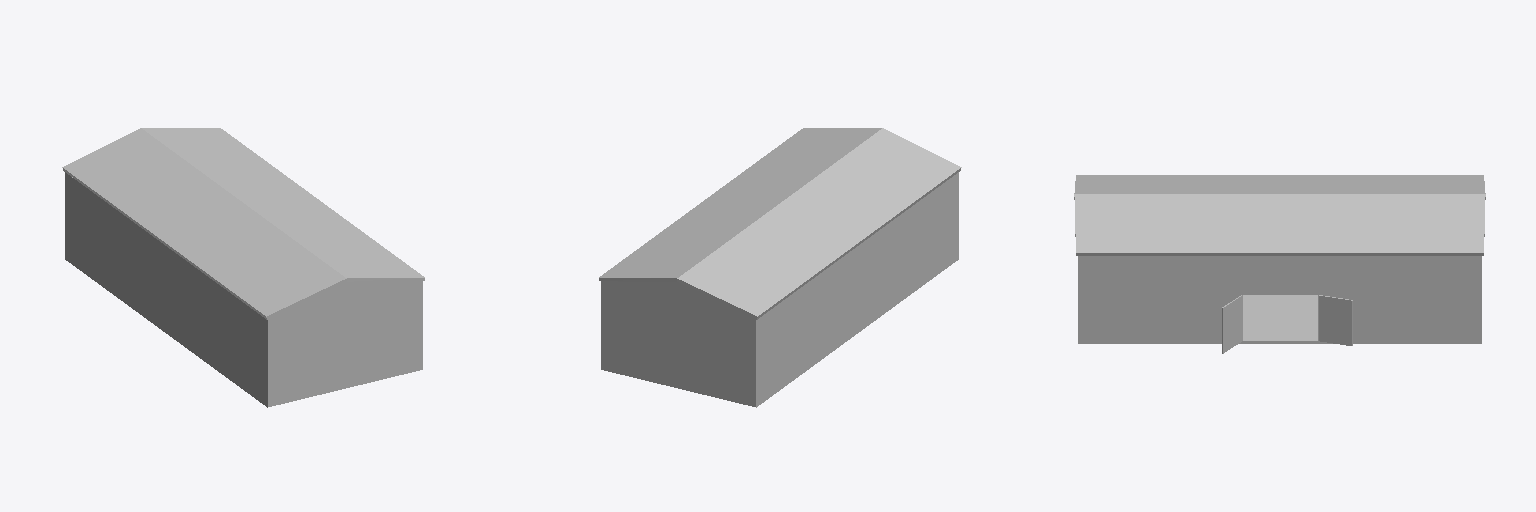
The model's file is FarmBarn.obj.
3 views of the same model, side by side, from view 1: azimuth 30°, elevation 25°; view 2: azimuth 150°, elevation 25°; view 3: azimuth 270°, elevation 25° (orthographic).
Parts seen in each view (by area): view 1: FarmBarn PROPS; view 2: FarmBarn PROPS; view 3: FarmBarn PROPS.
Boxes of the visible parts, <box> form: FarmBarn PROPS: <box>62,128,424,407</box>; FarmBarn PROPS: <box>599,128,961,407</box>; FarmBarn PROPS: <box>1074,175,1485,353</box>.
Bounding box in the file's own units: 8.8 × 5.11 × 17.08.